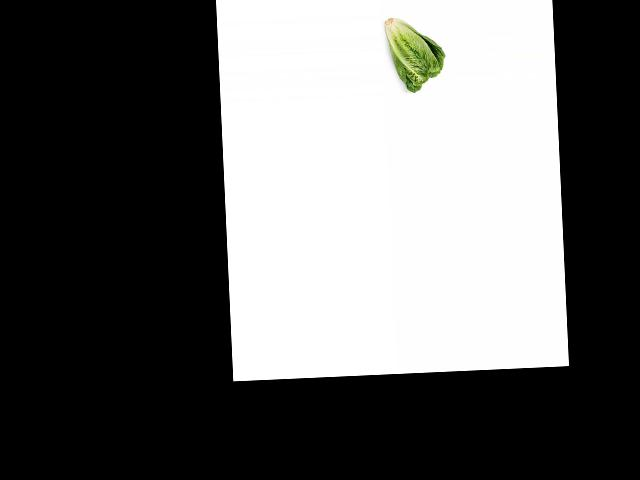lettuce: (382, 10, 445, 93)
